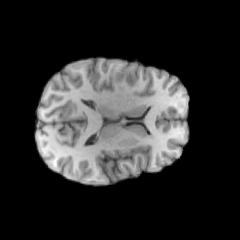glioma: (113, 65, 138, 86)
